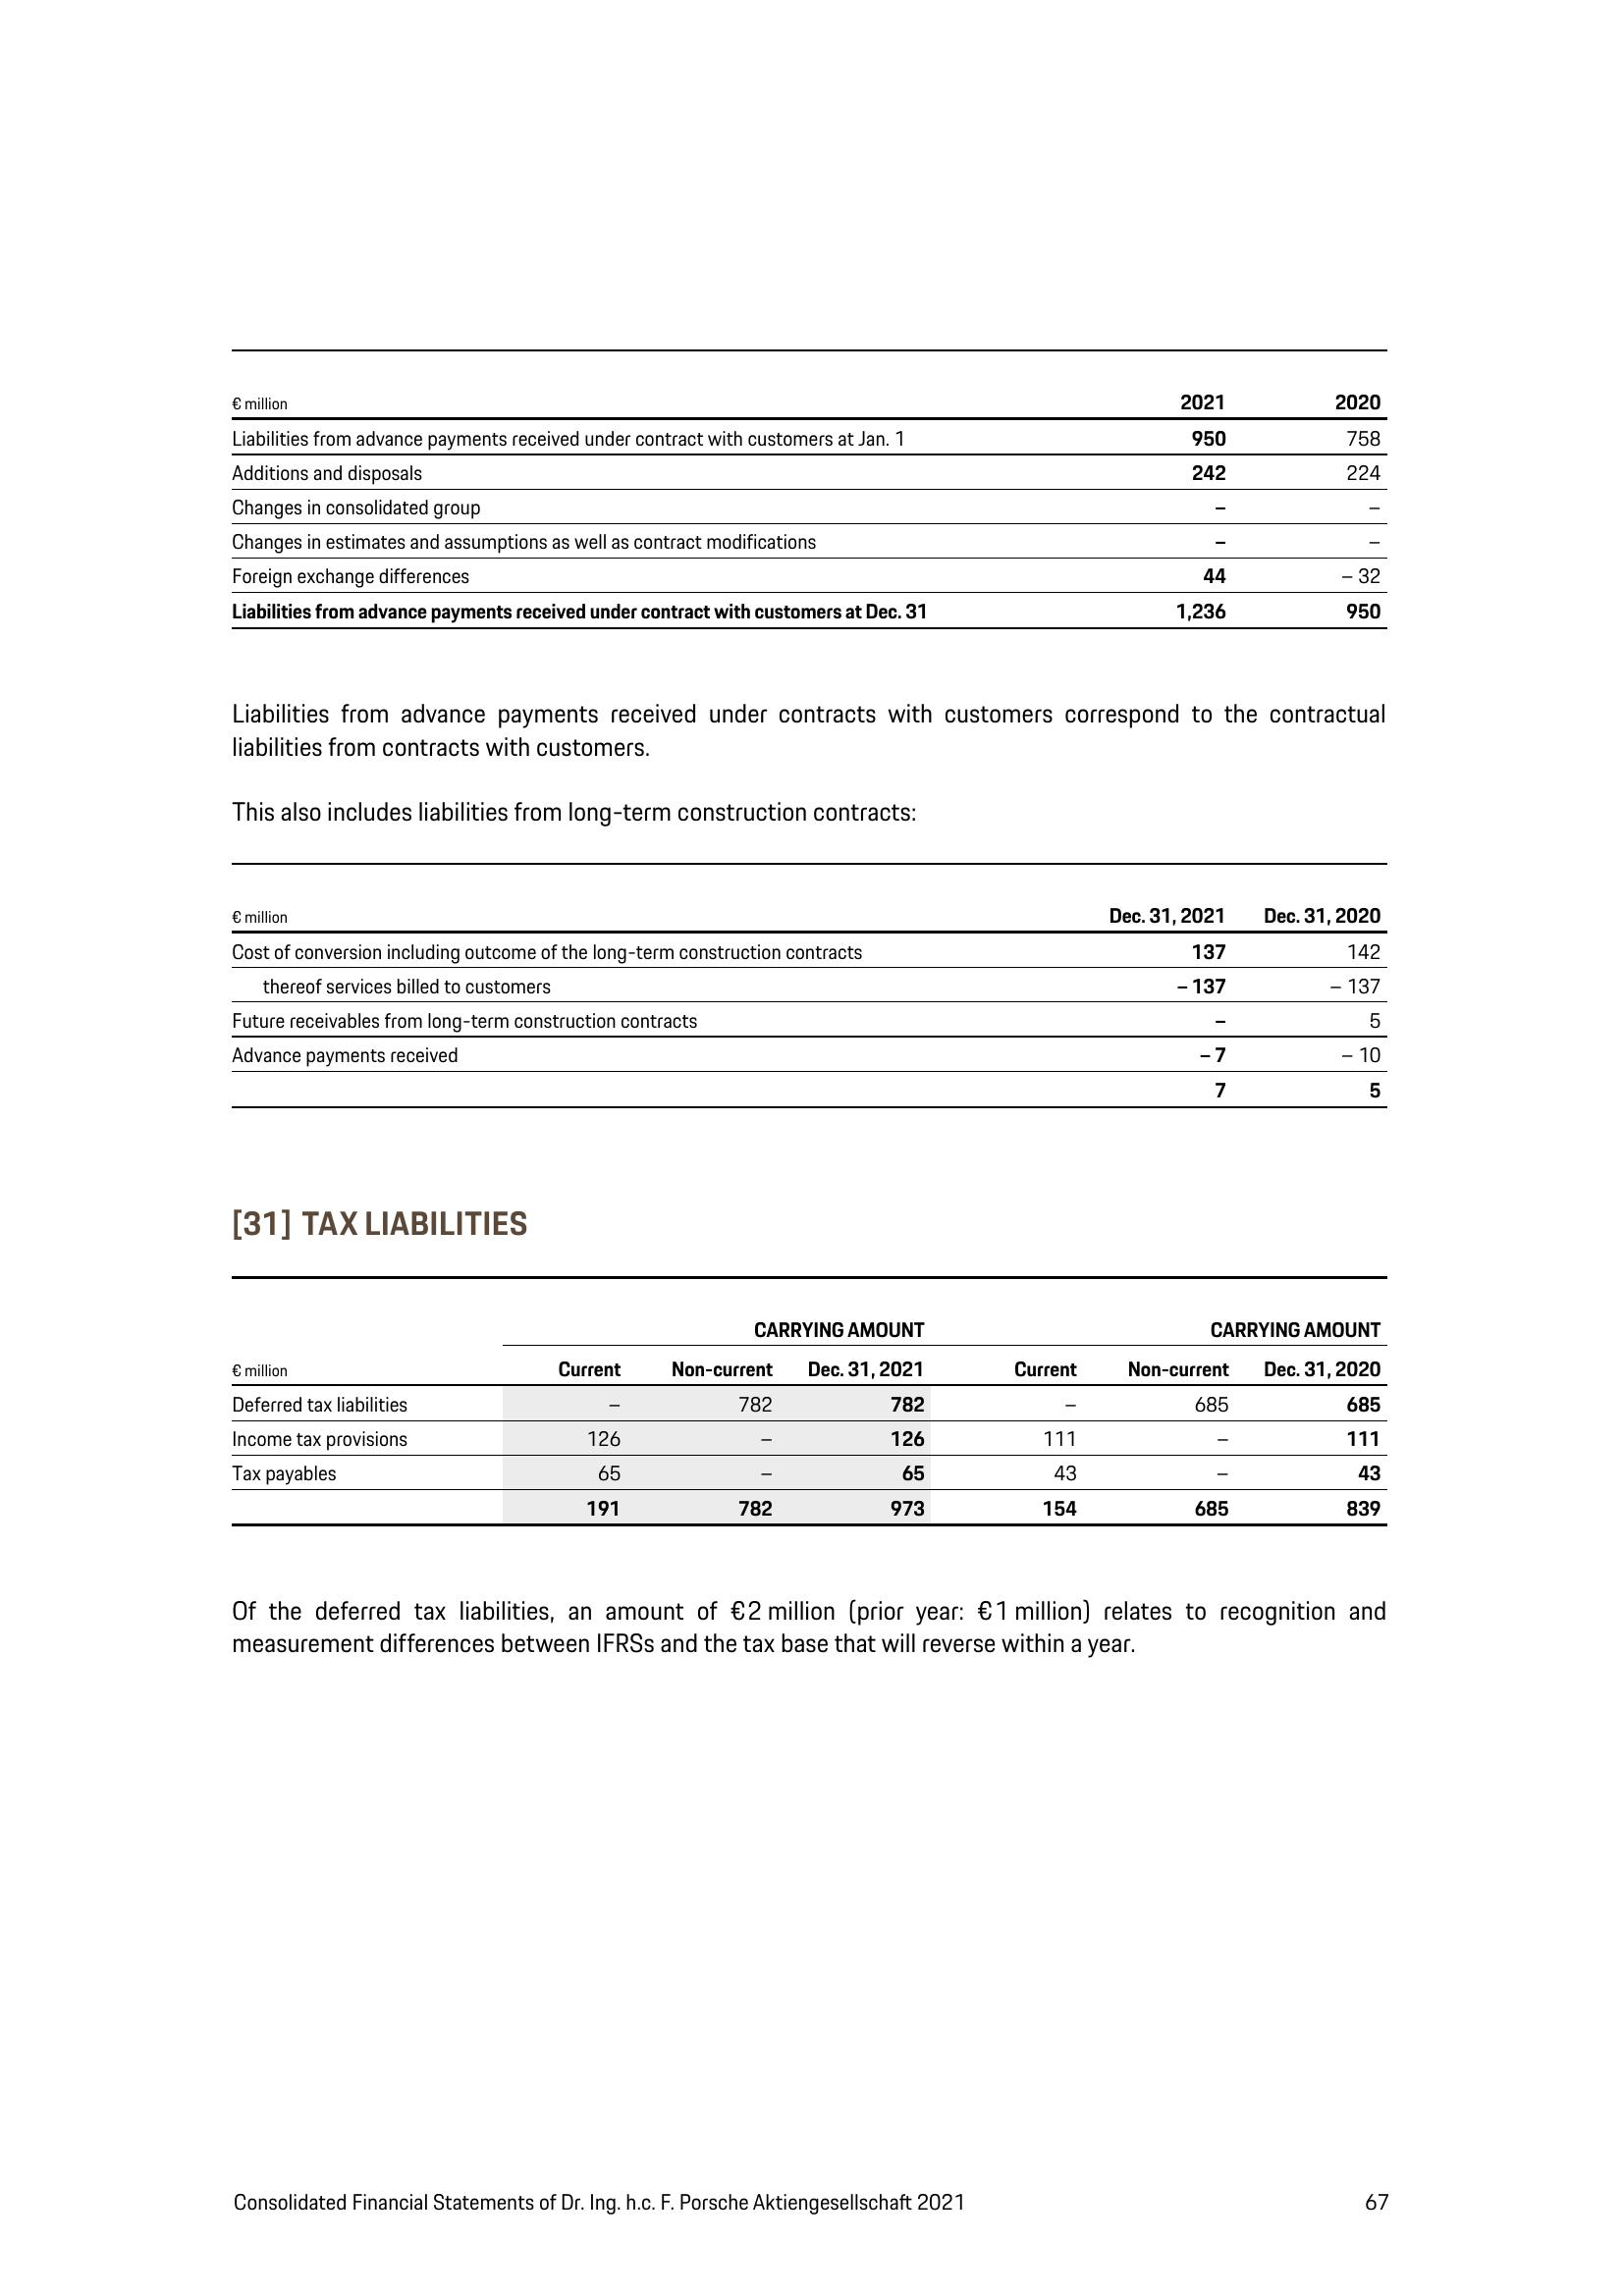Footer: (0, 2122, 1624, 2296)
Header: (0, 0, 1624, 202)
Table: (167, 304, 1420, 657), (167, 850, 1429, 1128), (172, 1240, 1403, 1521)
